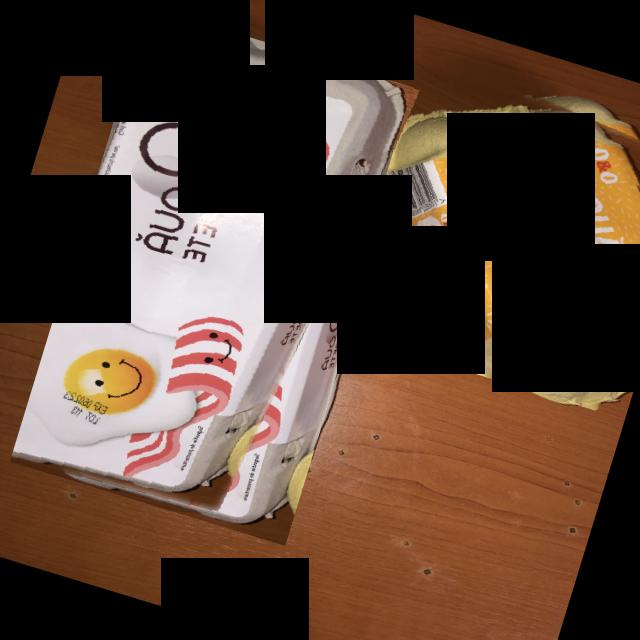eggs: (9, 7, 424, 546), (337, 48, 640, 419)
